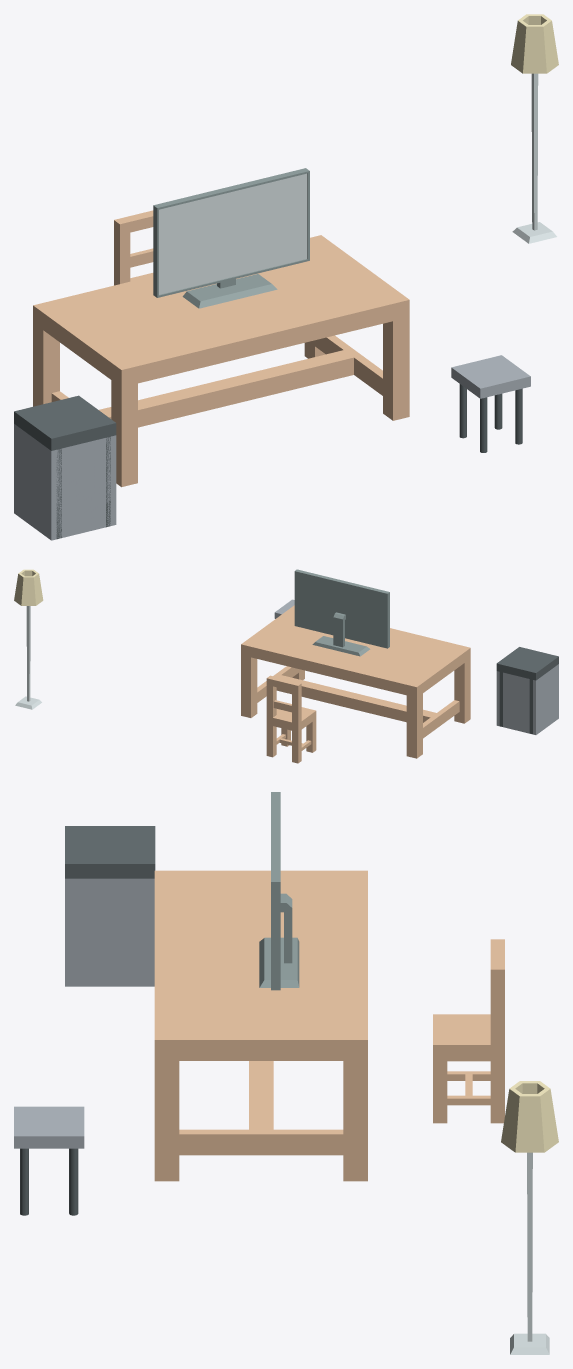
3 views of the same model, one above another, from view 1: azimuth 30°, elevation 25°; view 2: azimuth 150°, elevation 25°; view 3: azimuth 270°, elevation 25° (orthographic). The views are drawn at different scales.
Parts seen in each view (by area): view 1: table_green__table(Clone), tv_black__televisionModern(Clone), bin_gray__bin_gray shell, lamp_white__lampRoundFloor(Clone), bin_gray__bin_gray lid, stool_purple__stool_purple seat, chair_cyan__chair(Clone), bin_gray__bin_gray band; view 2: table_green__table(Clone), tv_black__televisionModern(Clone), bin_gray__bin_gray shell, chair_cyan__chair(Clone), lamp_white__lampRoundFloor(Clone), bin_gray__bin_gray lid, bin_gray__bin_gray band, bin_gray__bin_gray band.001; view 3: table_green__table(Clone), bin_gray__bin_gray shell, chair_cyan__chair(Clone), lamp_white__lampRoundFloor(Clone), bin_gray__bin_gray lid, tv_black__televisionModern(Clone), stool_purple__stool_purple seat.
Boxes of the visible parts, box(x1,y1,x2,y2) form: table_green__table(Clone): box(33, 235, 409, 487); tv_black__televisionModern(Clone): box(153, 168, 309, 308); bin_gray__bin_gray shell: box(14, 424, 116, 540); lamp_white__lampRoundFloor(Clone): box(511, 14, 558, 243); bin_gray__bin_gray lid: box(14, 395, 116, 450); stool_purple__stool_purple seat: box(451, 355, 530, 398); chair_cyan__chair(Clone): box(114, 210, 153, 285); bin_gray__bin_gray band: box(19, 409, 61, 539); table_green__table(Clone): box(241, 605, 470, 758); tv_black__televisionModern(Clone): box(294, 569, 389, 656); bin_gray__bin_gray shell: box(496, 664, 558, 734); chair_cyan__chair(Clone): box(266, 675, 316, 763); lamp_white__lampRoundFloor(Clone): box(14, 569, 43, 709); bin_gray__bin_gray lid: box(496, 647, 558, 680); bin_gray__bin_gray band: box(529, 655, 555, 734); bin_gray__bin_gray band.001: box(499, 647, 525, 726); table_green__table(Clone): box(154, 870, 367, 1181); bin_gray__bin_gray shell: box(65, 878, 154, 986); chair_cyan__chair(Clone): box(433, 939, 504, 1123); lamp_white__lampRoundFloor(Clone): box(501, 1081, 558, 1354); bin_gray__bin_gray lid: box(65, 826, 155, 878); tv_black__televisionModern(Clone): box(259, 792, 299, 990); stool_purple__stool_purple seat: box(14, 1106, 84, 1148).
Bounding box in the file's own units: 4.28 × 1.32 × 2.41.
